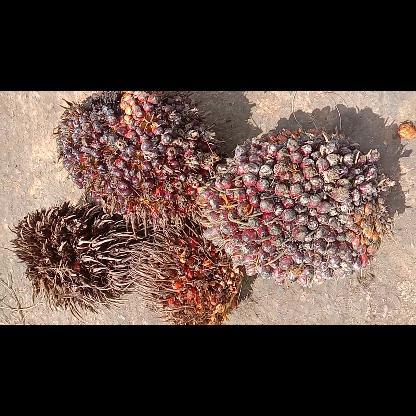Janjang kosong: (8, 199, 148, 321)
Kurang masak: (198, 127, 396, 287)
TBS masak: (52, 91, 228, 227)
Terlalu masak: (128, 224, 250, 324)
